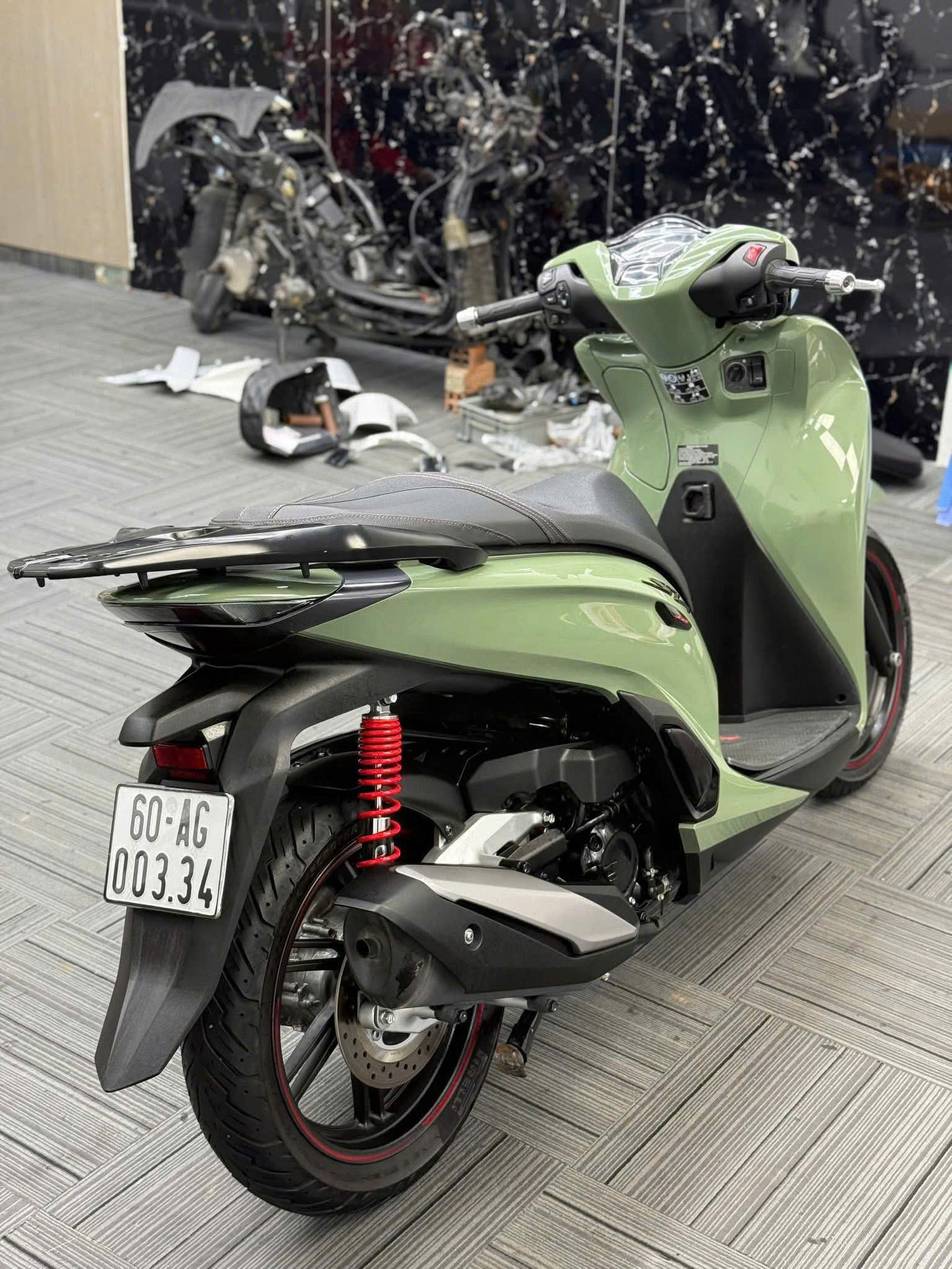Bien-so: (103, 783, 231, 920)
